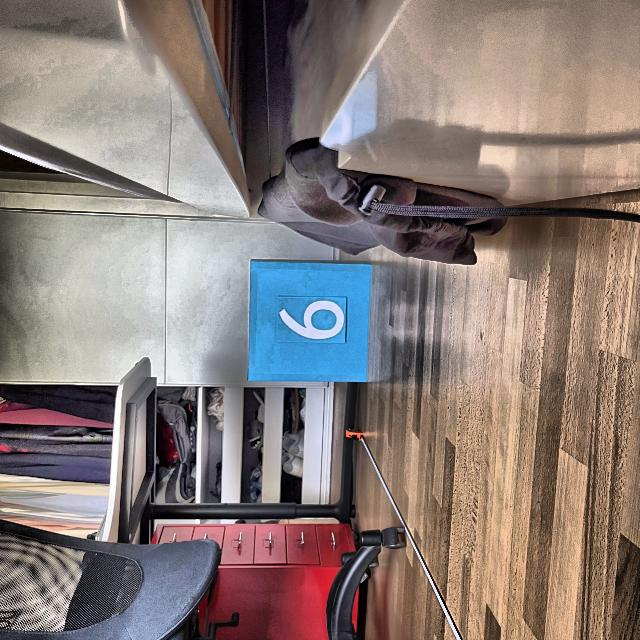blue box: (243, 254, 373, 386)
six: (274, 295, 348, 341)
